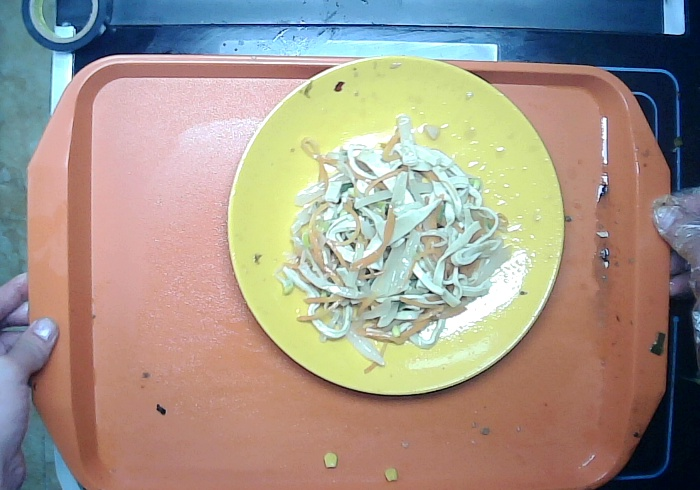HZYJPL-Huang_Se_Yuan_Pan: (217, 50, 583, 410)
